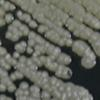white: (29, 85, 40, 96), (4, 13, 14, 24), (17, 82, 30, 89), (14, 71, 24, 80), (0, 94, 14, 100), (27, 94, 41, 100), (20, 88, 30, 96), (8, 84, 17, 92), (41, 91, 49, 100), (0, 58, 7, 68), (10, 74, 18, 82), (0, 84, 7, 93), (15, 89, 22, 97), (5, 64, 12, 72), (13, 51, 20, 58), (16, 96, 27, 100), (5, 54, 11, 61)
